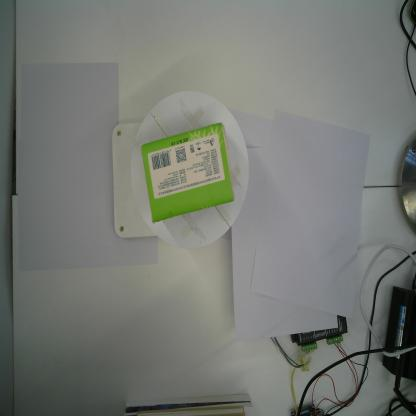Tissue: (140, 121, 237, 226)
